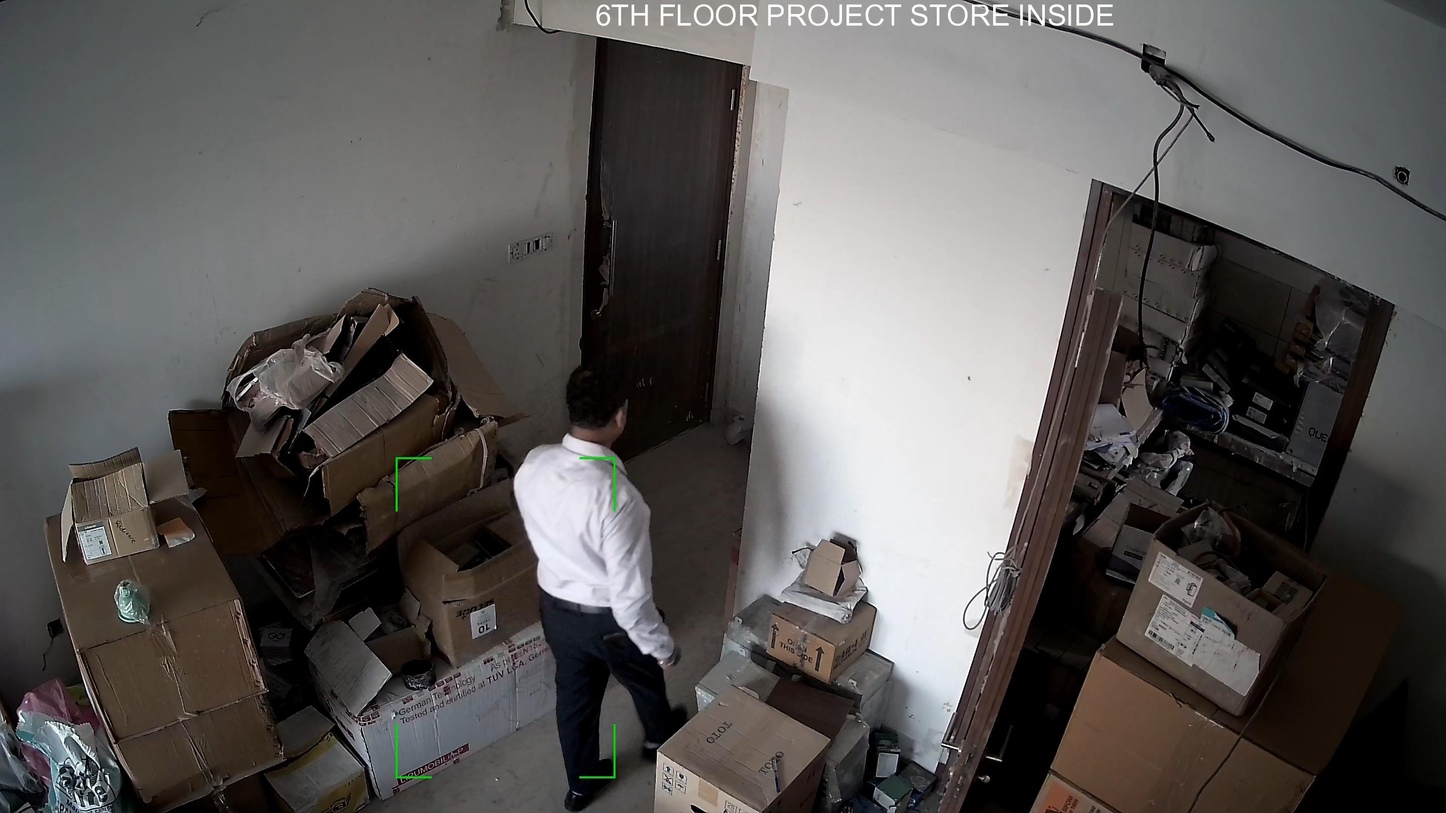Door-Close: (570, 34, 742, 466)
